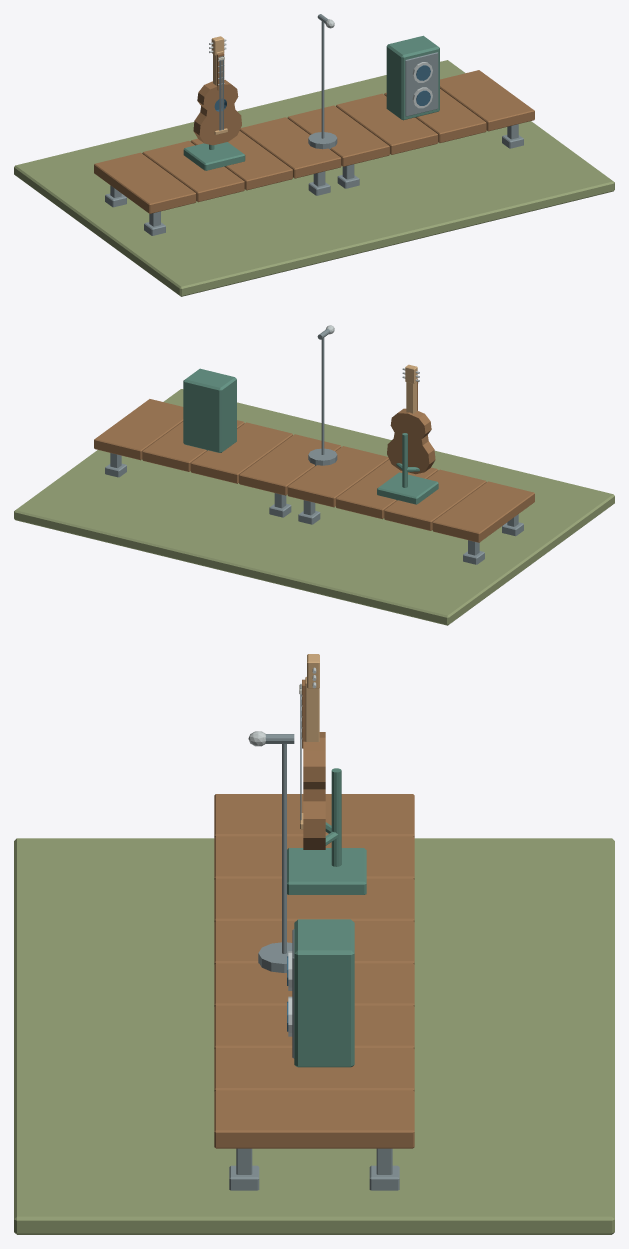
The picture shows the model from 3 angles, top to bottom: view 1: azimuth 30°, elevation 25°; view 2: azimuth 150°, elevation 25°; view 3: azimuth 270°, elevation 25°; orthographic projection. The views are drawn at different scales.
Parts seen in each view (by area): view 1: music-busking-corner-01; view 2: music-busking-corner-01; view 3: music-busking-corner-01.
Boxes of the visible parts, x1,y1,x2,y2 form: music-busking-corner-01: (14, 14, 614, 296); music-busking-corner-01: (14, 325, 614, 625); music-busking-corner-01: (14, 654, 614, 1234).
Size of the model in its own units: 4.5 by 1.73 by 3.
